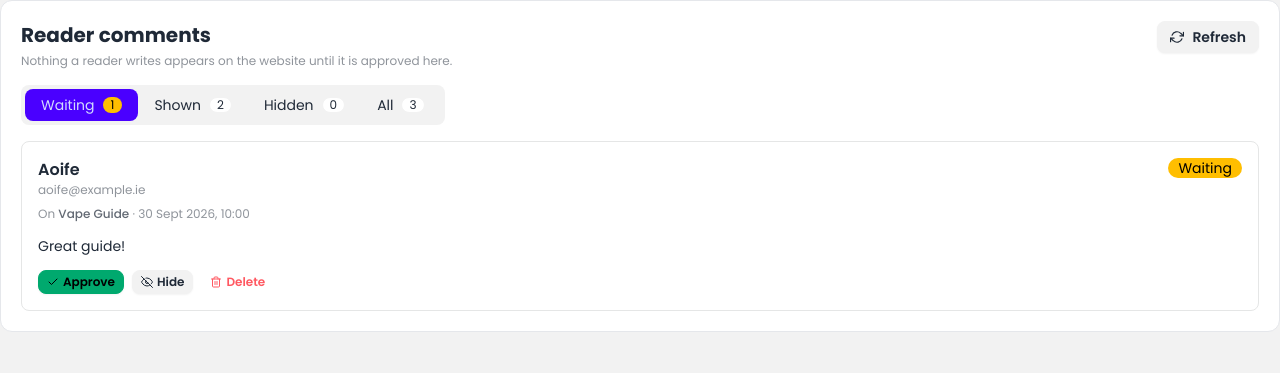
Test: the commenter's website is shown as a nofollow link
The image size is (1280, 373).
Click the button "Refresh". click: (1208, 37)
box: 1157,21 -> 1259,53
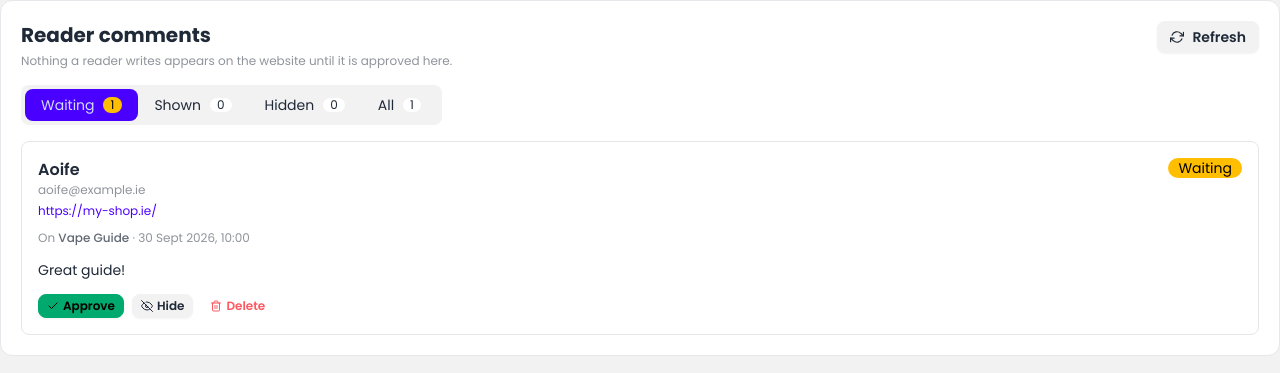
Check: the link to "https://my-shop.ie/" is shown, box 38,202 -> 157,219
